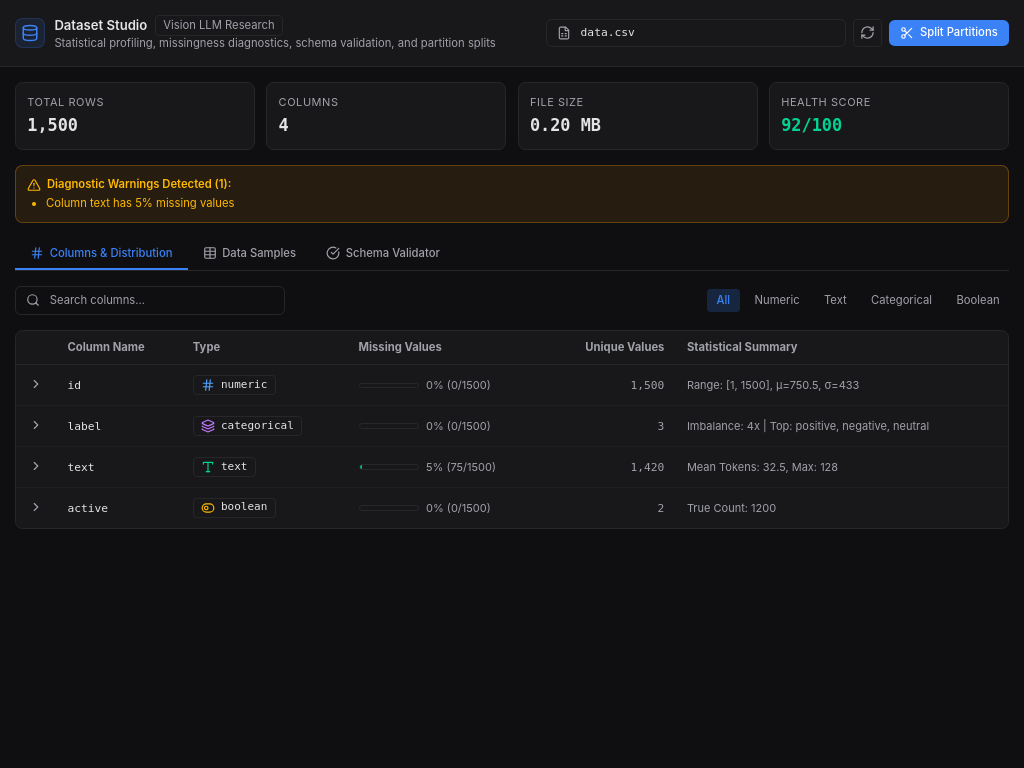
Test case: DatasetStudio Component › switches to Schema Validator and executes validation check
The width and height of the screenshot is (1024, 768).
Expected: the text "92/100" is shown, 781,112 -> 842,138
Click the button "Schema Validator".
click(383, 254)  # box 311,238 -> 455,270
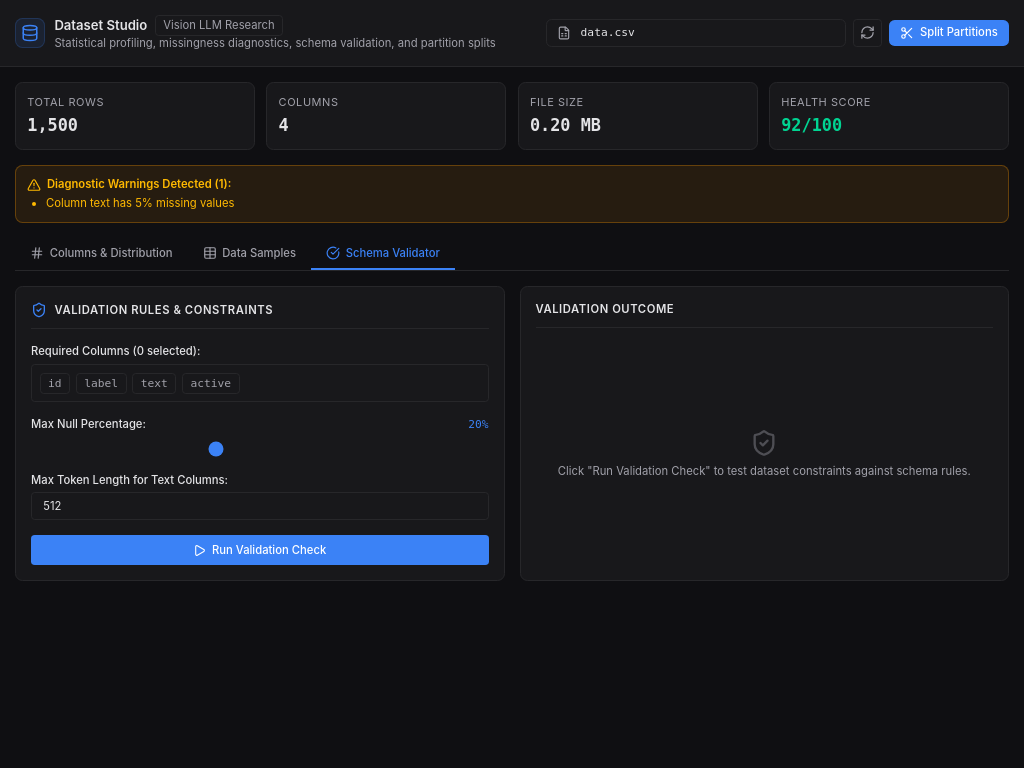
Click the button "Run Validation Check".
click(260, 550)  # box 31,535 -> 488,565
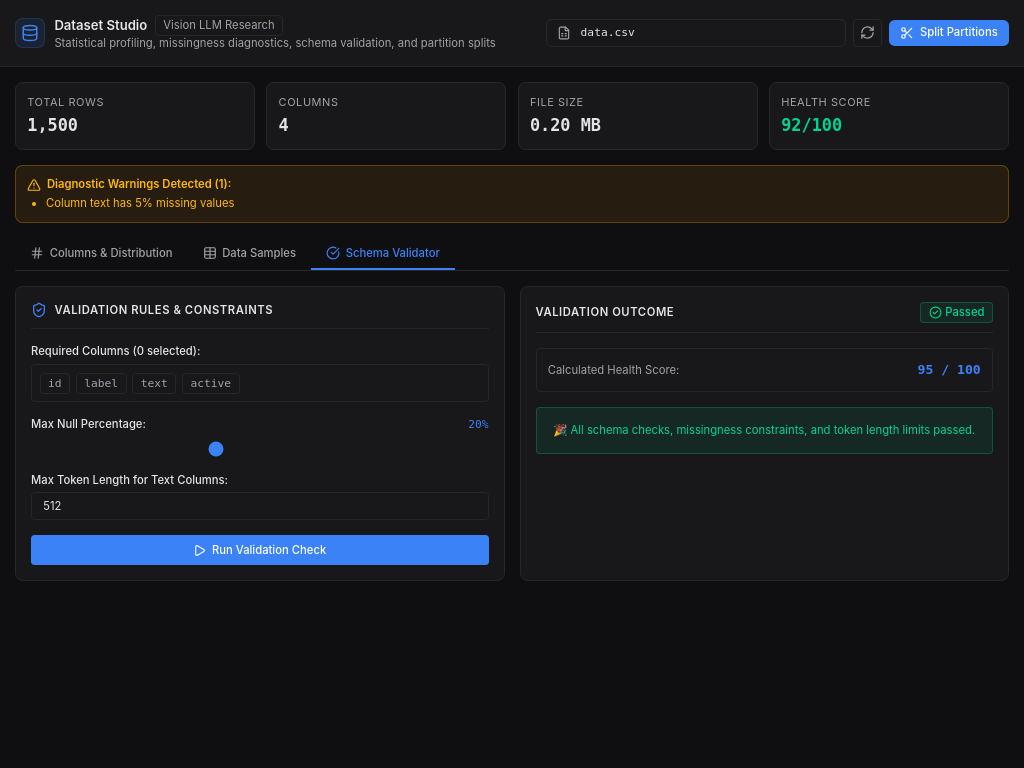
Now the text "Passed" is shown, box 920,302 -> 993,323
Now the text "95 / 100" is shown, box 918,361 -> 981,380
